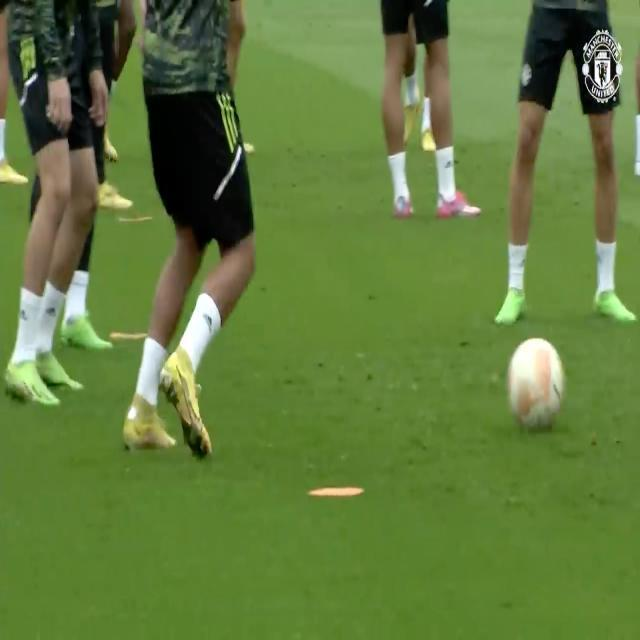Adidas: (203, 309, 214, 334), (46, 304, 58, 319)
